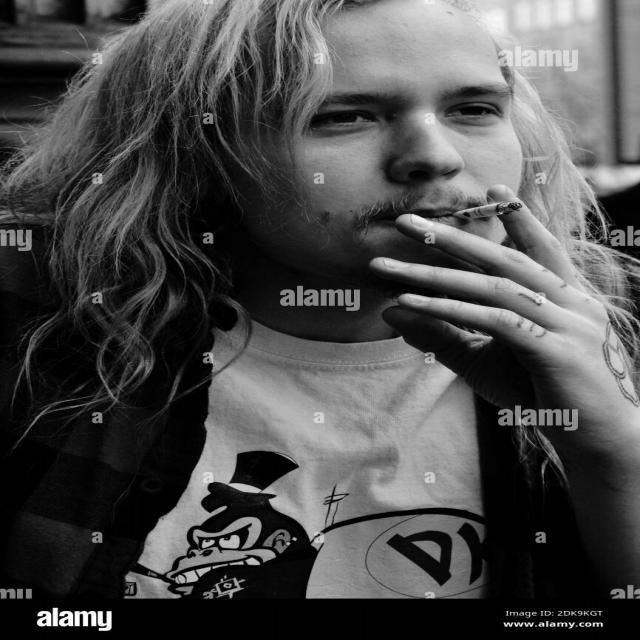cigarette: (451, 195, 523, 227)
